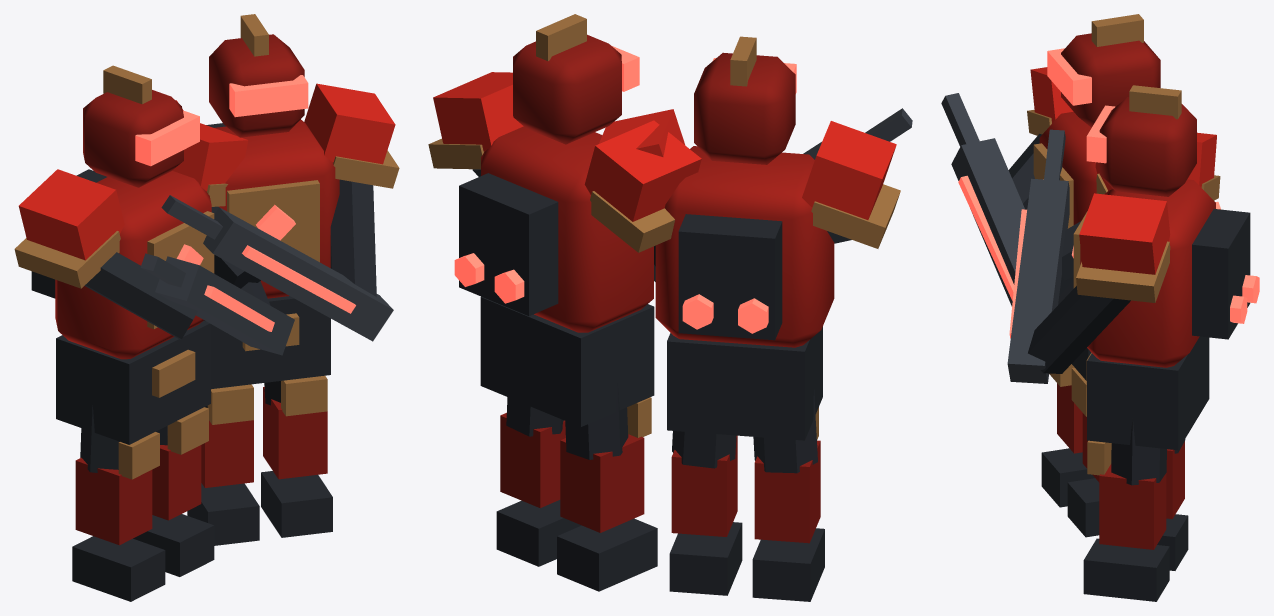
The model's file is sentry_dl8_red.glb.
3 views of the same model, side by side, from view 1: azimuth 30°, elevation 25°; view 2: azimuth 150°, elevation 25°; view 3: azimuth 270°, elevation 25° (orthographic). The views are drawn at different scales.
Parts seen in each view (by area): view 1: sentry_dl8_red; view 2: sentry_dl8_red; view 3: sentry_dl8_red.
Part boxes in pixels (<box>): sentry_dl8_red: <box>14,14,399,601</box>; sentry_dl8_red: <box>428,14,912,601</box>; sentry_dl8_red: <box>941,14,1259,601</box>.
Bounding box in the file's own units: 0.3555 × 0.428 × 0.2557.
Materials: 2 (1 with a texture image).
